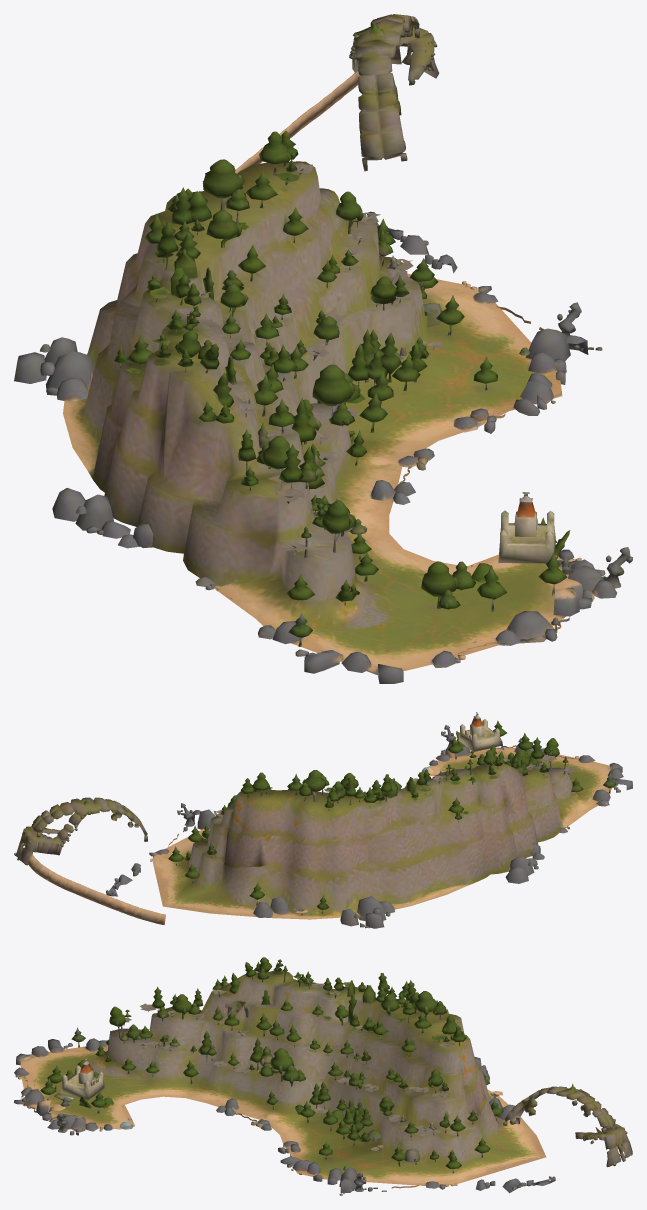
3 renders of one model, top to bottom at view 1: azimuth 30°, elevation 25°; view 2: azimuth 150°, elevation 25°; view 3: azimuth 270°, elevation 25°, orthographic. The views are drawn at different scales.
Parts seen in each view (by area): view 1: tripo_node_6ccfc062-c808-48ca-8751-26b2e4c42b95; view 2: tripo_node_6ccfc062-c808-48ca-8751-26b2e4c42b95; view 3: tripo_node_6ccfc062-c808-48ca-8751-26b2e4c42b95.
Boxes of the visible parts, <box> form: tripo_node_6ccfc062-c808-48ca-8751-26b2e4c42b95: <box>14,14,632,683</box>; tripo_node_6ccfc062-c808-48ca-8751-26b2e4c42b95: <box>14,712,632,928</box>; tripo_node_6ccfc062-c808-48ca-8751-26b2e4c42b95: <box>14,957,632,1195</box>.
Bounding box in the file's own units: 80.58 × 25.56 × 116.
Materials: 1 (1 with a texture image).
